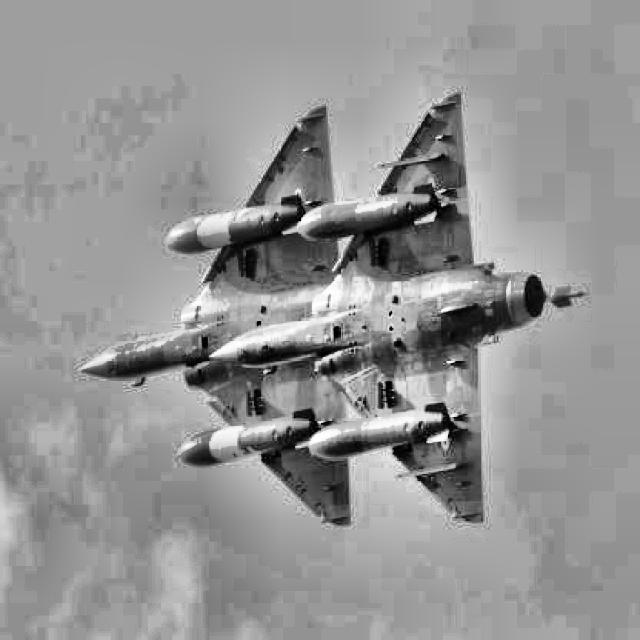Mirage2000: (208, 92, 592, 523), (78, 105, 350, 527)
